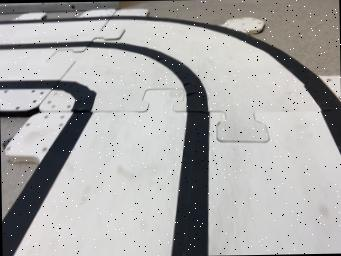street: (0, 14, 341, 256), (0, 14, 341, 256), (0, 14, 341, 256)
